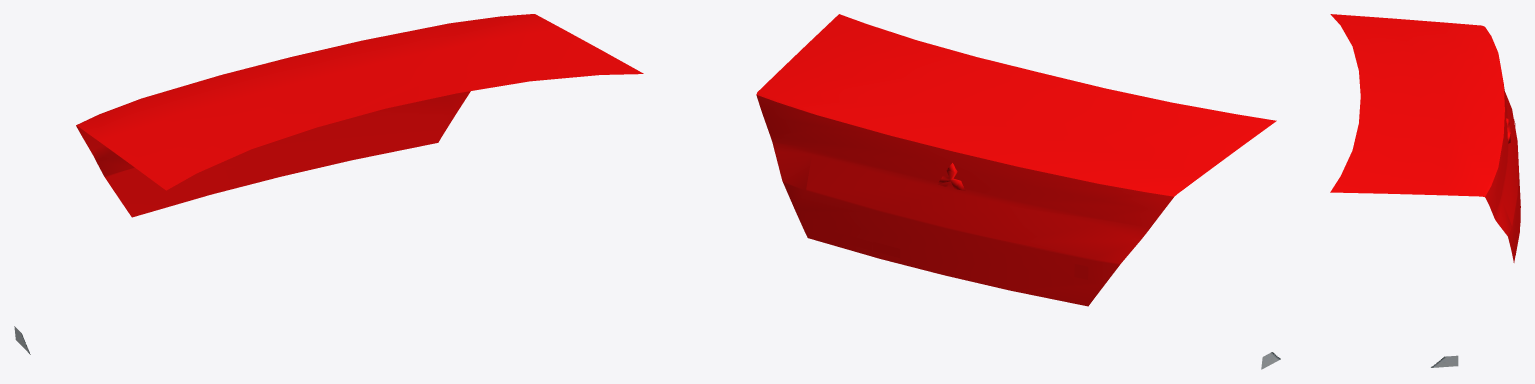
Rendered from evo9_behind_box.FBX.
3 renders of one model, left to right at view 1: azimuth 30°, elevation 25°; view 2: azimuth 150°, elevation 25°; view 3: azimuth 270°, elevation 25°, orthographic. The views are drawn at different scales.
Visible parts, largest first — view 1: Base; view 2: Base; view 3: Base, BumperRB.
Boxes of the visible parts, x1,y1,x2,y2 form: Base: (76, 14, 643, 217); Base: (756, 14, 1276, 306); Base: (1330, 14, 1520, 262); BumperRB: (1431, 355, 1458, 367).
Size of the model in its own units: 43.03 by 13.45 by 14.81.
